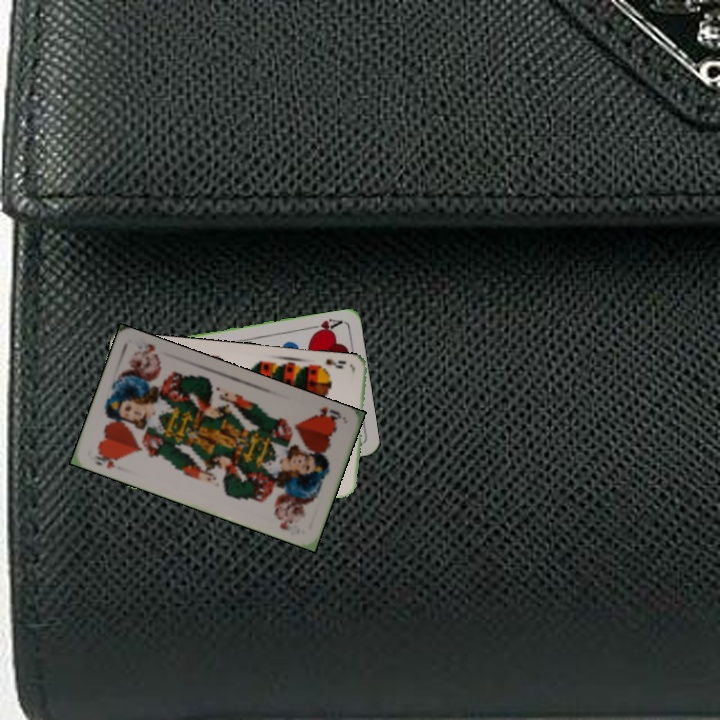HA: (305, 314, 345, 337)
HO: (88, 448, 123, 471), (311, 403, 344, 426)
S9: (311, 355, 349, 374)
